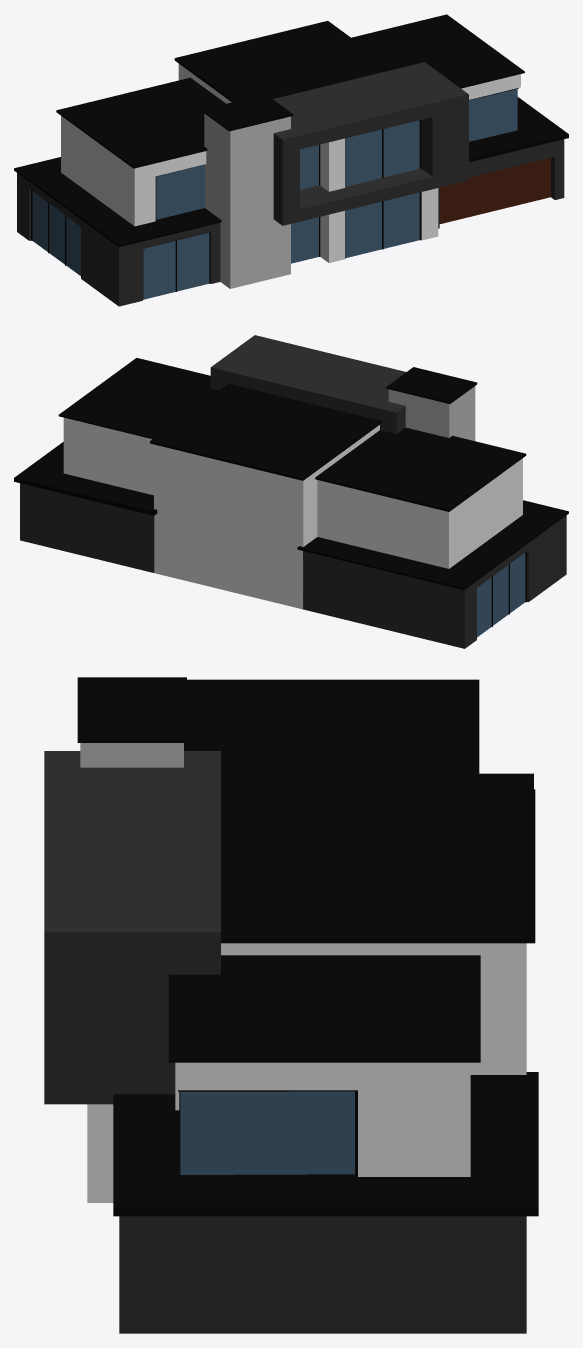
File: Modern3.fbx
The picture shows the model from 3 angles, top to bottom: view 1: azimuth 30°, elevation 25°; view 2: azimuth 150°, elevation 25°; view 3: azimuth 270°, elevation 25°; orthographic projection. The views are drawn at different scales.
Visible parts, largest first — view 1: Modern3_Roof, Modern3_ConcreteB, Modern3_Windows, Modern3_Pillar, Modern3_Concrete, Modern3_Garage, Modern3_Frame; view 2: Modern3_Roof, Modern3_Concrete, Modern3_ConcreteB, Modern3_Pillar, Modern3_Windows; view 3: Modern3_Roof, Modern3_ConcreteB, Modern3_Concrete, Modern3_Windows, Modern3_Pillar.
Boxes of the visible parts, x1,y1,x2,y2 form: Modern3_Roof: [14, 14, 568, 247]; Modern3_ConcreteB: [17, 62, 564, 306]; Modern3_Windows: [32, 89, 517, 299]; Modern3_Pillar: [204, 113, 290, 288]; Modern3_Concrete: [61, 64, 520, 262]; Modern3_Garage: [439, 157, 550, 223]; Modern3_Frame: [31, 88, 518, 299]; Modern3_Roof: [14, 358, 568, 589]; Modern3_Concrete: [63, 417, 522, 609]; Modern3_ConcreteB: [20, 335, 566, 648]; Modern3_Pillar: [388, 386, 475, 440]; Modern3_Windows: [477, 553, 525, 637]; Modern3_Roof: [77, 677, 538, 1216]; Modern3_ConcreteB: [44, 751, 526, 1333]; Modern3_Concrete: [87, 943, 526, 1202]; Modern3_Windows: [180, 1091, 354, 1174]; Modern3_Pillar: [80, 743, 183, 767].
Bounding box in the file's own units: 2167 × 738 × 1034.
